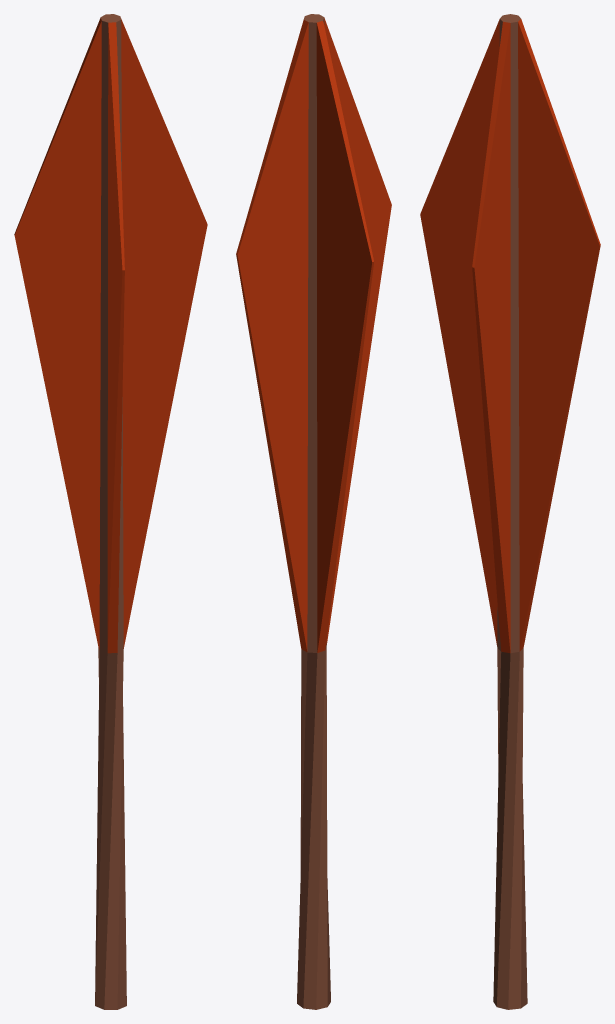
The model's file is Tree_29_summer_red_mat.fbx.
3 renders of one model, left to right at view 1: azimuth 30°, elevation 25°; view 2: azimuth 150°, elevation 25°; view 3: azimuth 270°, elevation 25°, orthographic.
Visible parts, largest first — view 1: Tree_29_summer_red_mat; view 2: Tree_29_summer_red_mat; view 3: Tree_29_summer_red_mat.
Boxes of the visible parts, x1,y1,x2,y2 form: Tree_29_summer_red_mat: (14, 14, 207, 1009); Tree_29_summer_red_mat: (236, 14, 391, 1009); Tree_29_summer_red_mat: (420, 14, 600, 1009).
Bounding box in the file's own units: 48.99 × 294 × 48.99.
